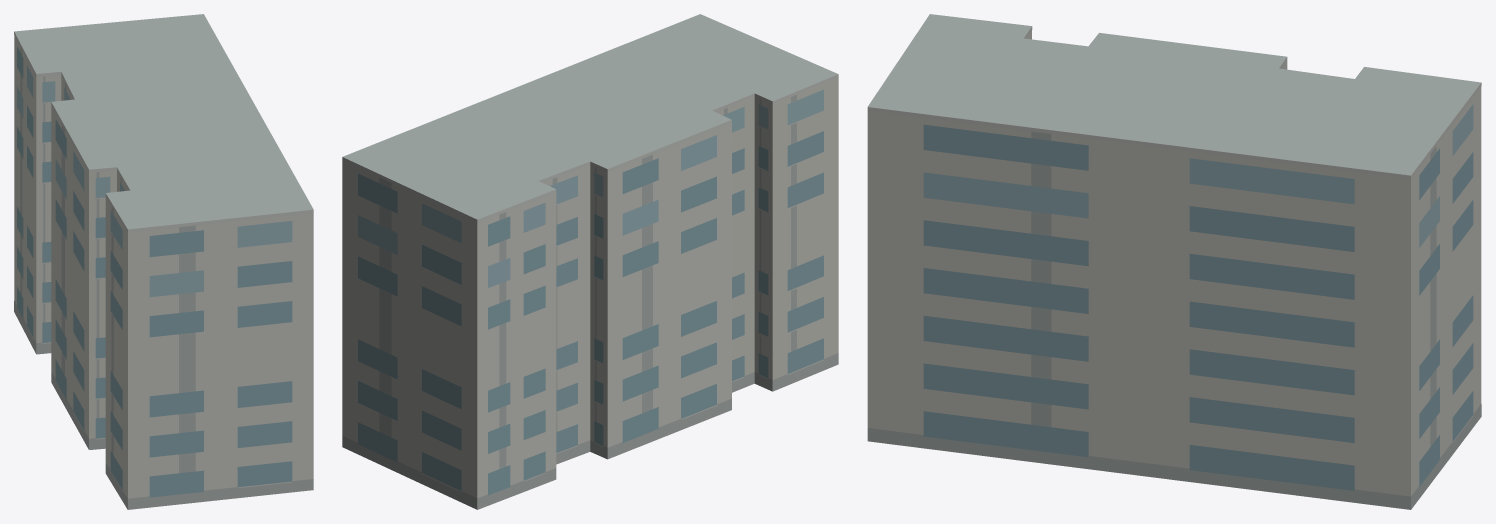
Rendered from survey-upis-32874207.glb.
The picture shows the model from 3 angles, left to right: view 1: azimuth 30°, elevation 25°; view 2: azimuth 150°, elevation 25°; view 3: azimuth 270°, elevation 25°; orthographic projection. The views are drawn at different scales.
Parts seen in each view (by area): view 1: survey-upis-32874207.tmp; view 2: survey-upis-32874207.tmp; view 3: survey-upis-32874207.tmp.
Boxes of the visible parts, x1,y1,x2,y2 form: survey-upis-32874207.tmp: (14,14,313,509); survey-upis-32874207.tmp: (342,14,838,509); survey-upis-32874207.tmp: (867,14,1481,509).
Size of the model in its own units: 22.14 by 21.35 by 35.54.
